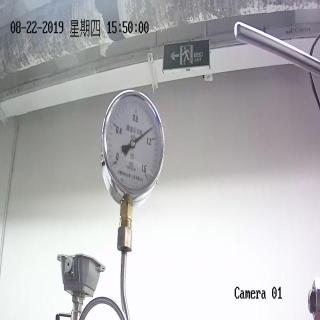gauge: (100, 81, 164, 207), (141, 169, 152, 185), (107, 160, 121, 172), (130, 138, 136, 149), (148, 124, 154, 132)
